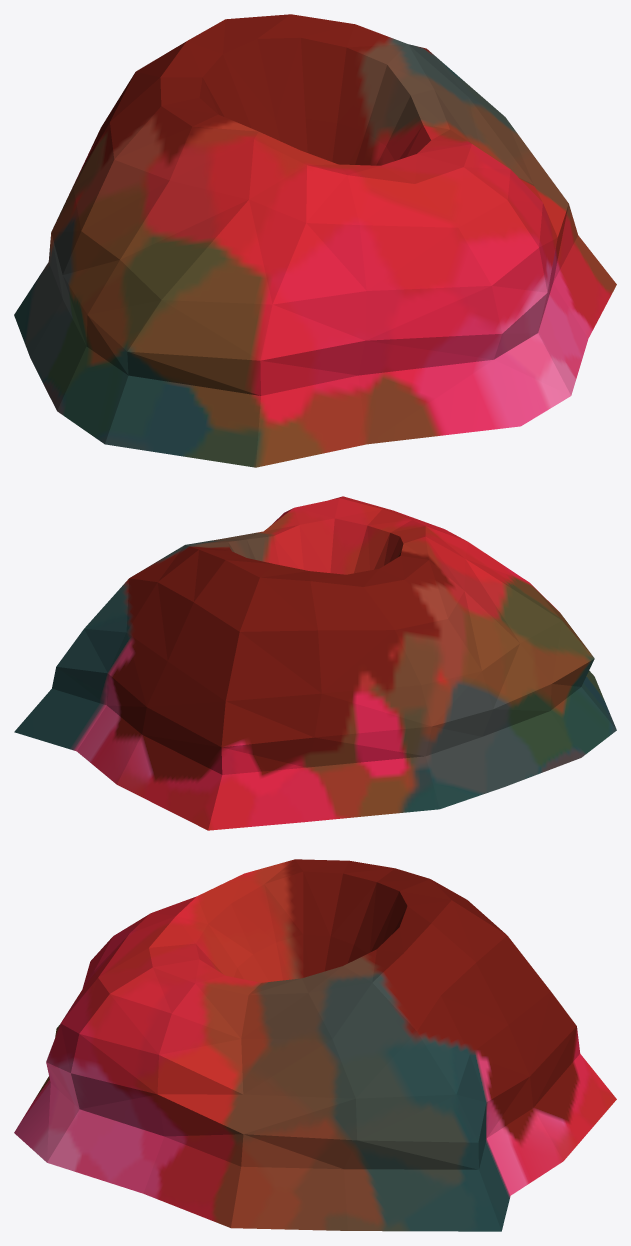
The model's file is geyser_00.fbx.
3 views of the same model, one above another, from view 1: azimuth 30°, elevation 25°; view 2: azimuth 150°, elevation 25°; view 3: azimuth 270°, elevation 25° (orthographic). The views are drawn at different scales.
Parts seen in each view (by area): view 1: polySurface_geyser; view 2: polySurface_geyser; view 3: polySurface_geyser.
Boxes of the visible parts, <box> form: polySurface_geyser: <box>14,14,616,467</box>; polySurface_geyser: <box>14,496,616,830</box>; polySurface_geyser: <box>14,859,616,1231</box>.
Bounding box in the file's own units: 3.06 × 1.25 × 3.21.
